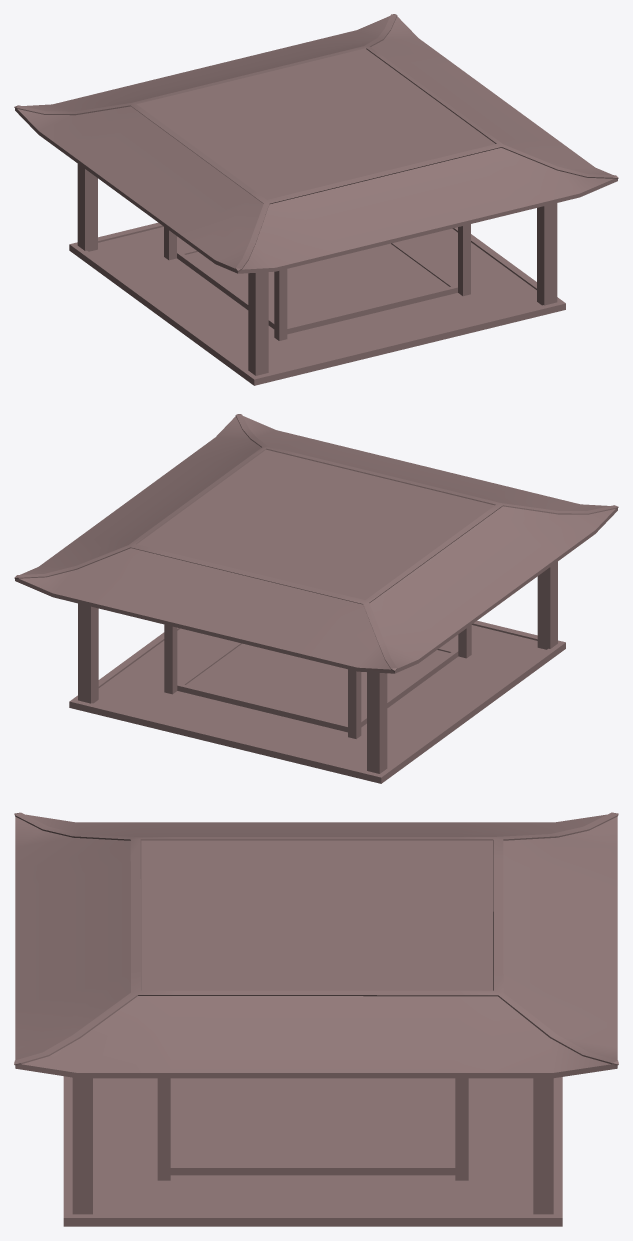
The model's file is TerrasseV2.fbx.
3 renders of one model, top to bottom at view 1: azimuth 30°, elevation 25°; view 2: azimuth 150°, elevation 25°; view 3: azimuth 270°, elevation 25°, orthographic. The views are drawn at different scales.
Parts seen in each view (by area): view 1: toit, sol1, contour_sol, sol2, poutre; view 2: toit, sol1, contour_sol, sol2, poutre; view 3: toit, sol1, sol2, contour_sol, poutre.
Boxes of the visible parts, x1=… form: toit: x1=14, y1=14, x2=618, y2=273; sol1: x1=89, y1=227, x2=541, y2=371; contour_sol: x1=69, y1=222, x2=565, y2=385; sol2: x1=186, y1=243, x2=449, y2=326; poutre: x1=77, y1=164, x2=557, y2=375; toit: x1=14, y1=414, x2=618, y2=673; sol1: x1=93, y1=625, x2=546, y2=769; contour_sol: x1=69, y1=620, x2=565, y2=783; sol2: x1=186, y1=643, x2=449, y2=724; poutre: x1=78, y1=561, x2=557, y2=773; toit: x1=14, y1=812, x2=618, y2=1078; sol1: x1=93, y1=1078, x2=533, y2=1213; sol2: x1=177, y1=1078, x2=448, y2=1165; contour_sol: x1=63, y1=1076, x2=562, y2=1226; poutre: x1=72, y1=1077, x2=553, y2=1214.
Bounding box in the file's own units: 28.12 × 10.93 × 28.64.
